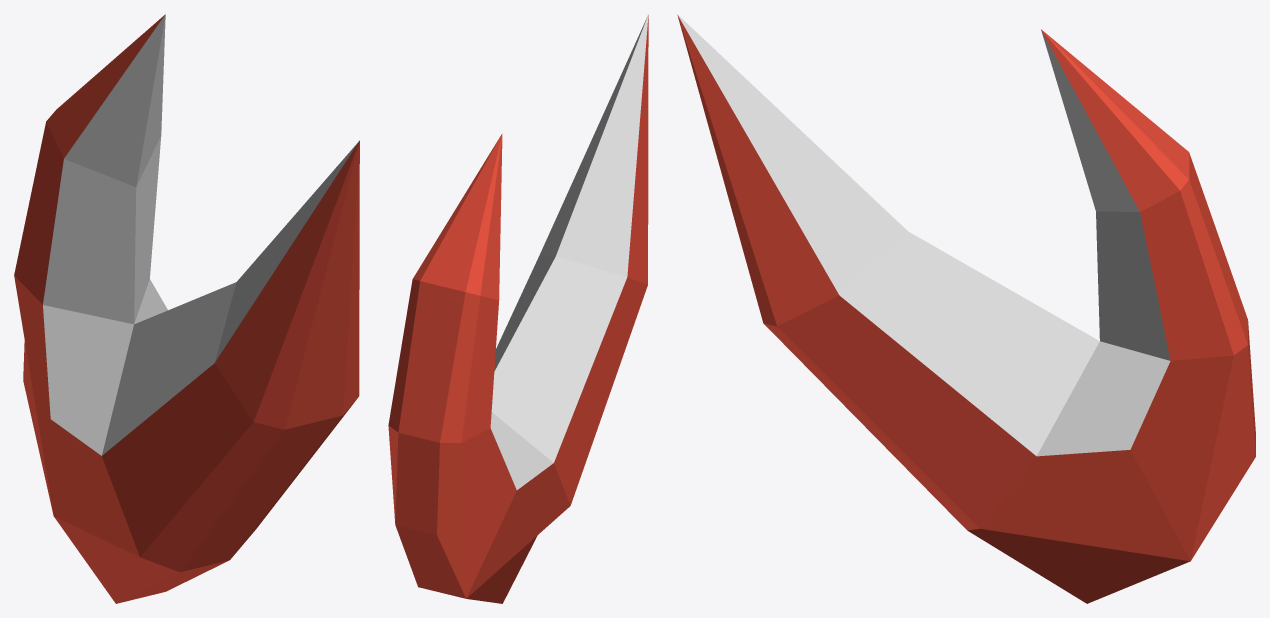
Rendered from claw.fbx.
The picture shows the model from 3 angles, left to right: view 1: azimuth 30°, elevation 25°; view 2: azimuth 150°, elevation 25°; view 3: azimuth 270°, elevation 25°; orthographic projection. The views are drawn at different scales.
Visible parts, largest first — view 1: Cylinder; view 2: Cylinder; view 3: Cylinder.
Part boxes in pixels (box(x1,y1,x2,y2)): Cylinder: box(14, 14, 359, 603); Cylinder: box(388, 14, 648, 603); Cylinder: box(677, 14, 1255, 603).
Size of the model in its own units: 71.87 by 318 by 289.
